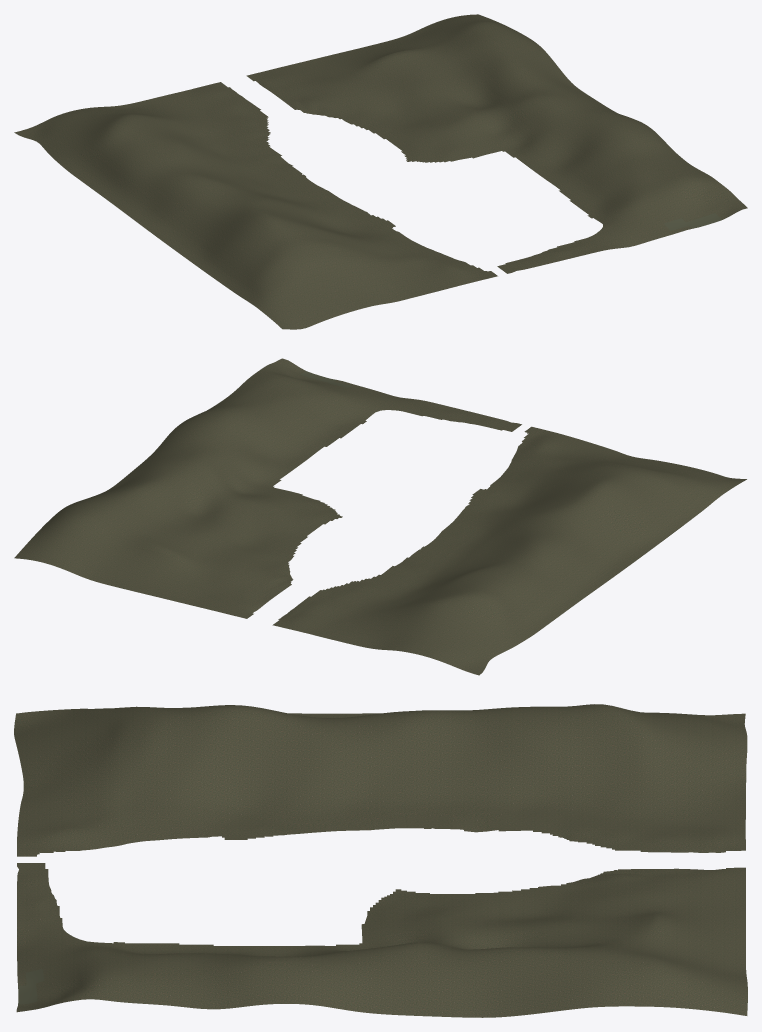
File: Montanas.fbx
The picture shows the model from 3 angles, top to bottom: view 1: azimuth 30°, elevation 25°; view 2: azimuth 150°, elevation 25°; view 3: azimuth 270°, elevation 25°; orthographic projection. The views are drawn at different scales.
Parts seen in each view (by area): view 1: Montanas; view 2: Montanas; view 3: Montanas.
Part boxes in pixels (x1=…): Montanas: x1=14, y1=14, x2=747, y2=329; Montanas: x1=14, y1=358, x2=746, y2=675; Montanas: x1=14, y1=704, x2=747, y2=1017.
Bounding box in the file's own units: 34835 × 2831 × 34646.
Materials: 1 (1 with a texture image).
